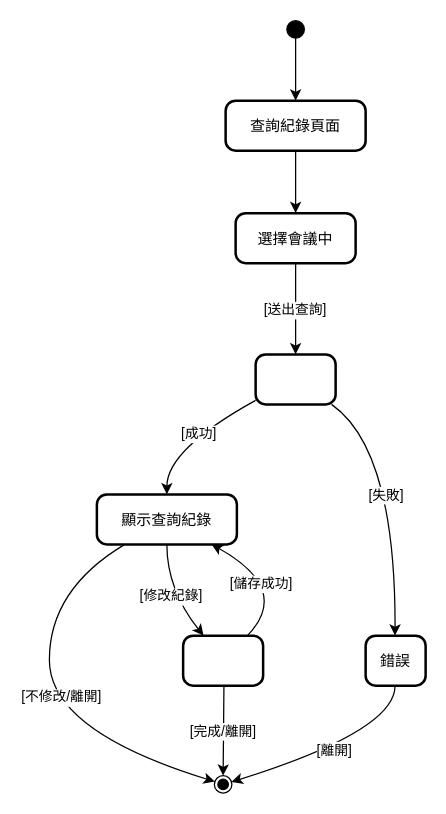
This 446x814 diagram has some shape labels left out. The centre of each missing label's shape, as x and y in pixels:
查詢中: pixel 295 378
編輯中: pixel 222 660
